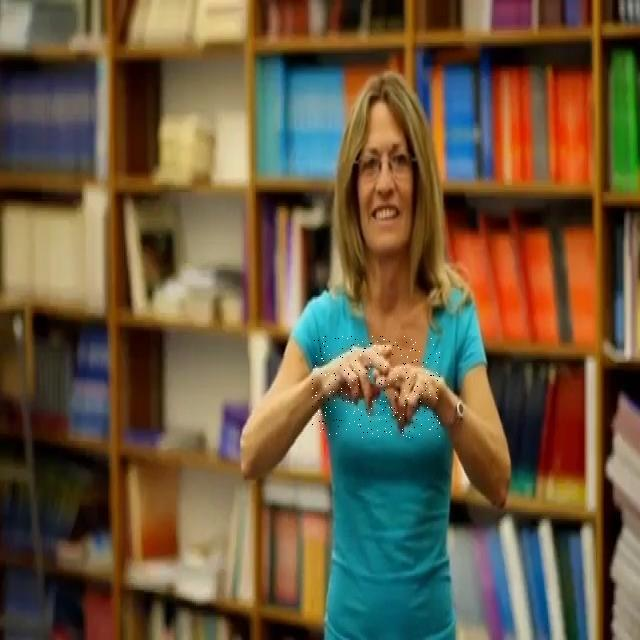salt: (312, 336, 440, 438)
